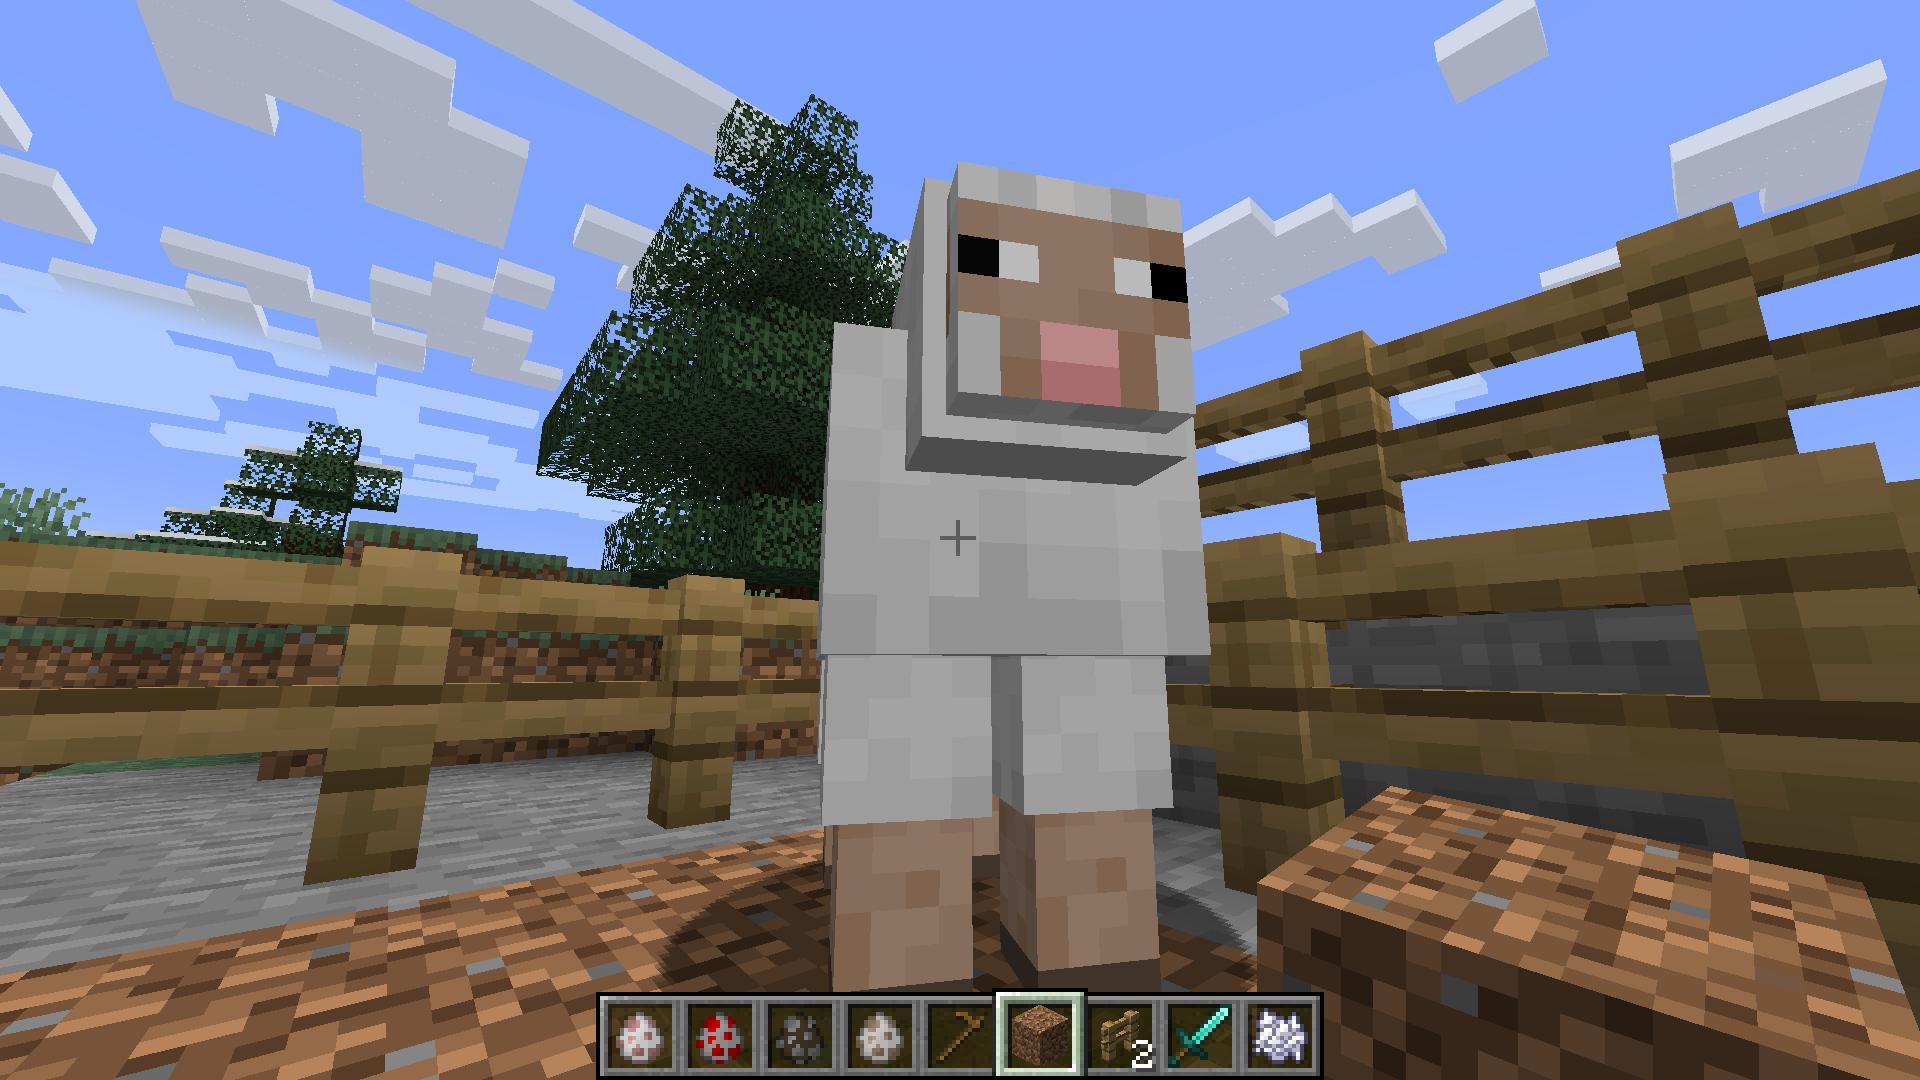sheep: (810, 153, 1209, 994)
